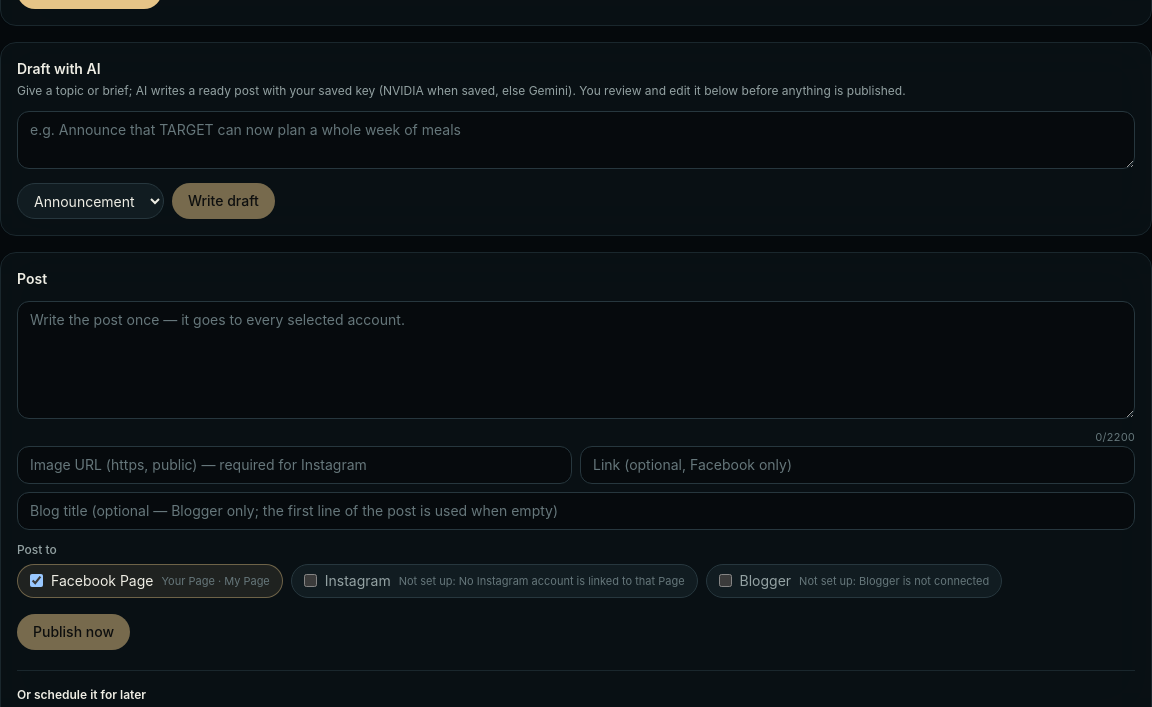
Test: user composer › publishing posts to /api/social/publish (never the admin routes) and shows the result
The width and height of the screenshot is (1152, 707).
(page scrolled)
Type "Hello from my Page" into the text box with test id "social-message" at {"x": 576, "y": 360}, box x1=17 y1=301 x2=1135 y2=419
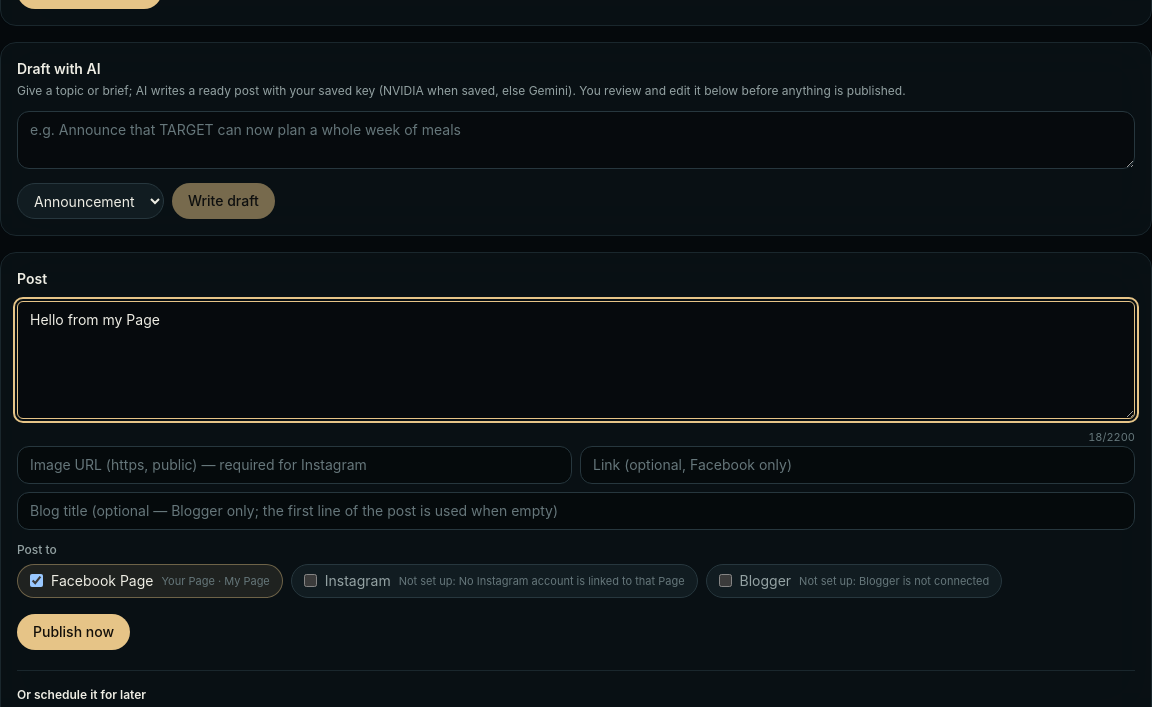
Click the button with test id "social-publish" at {"x": 74, "y": 632}, box x1=17 y1=614 x2=130 y2=650
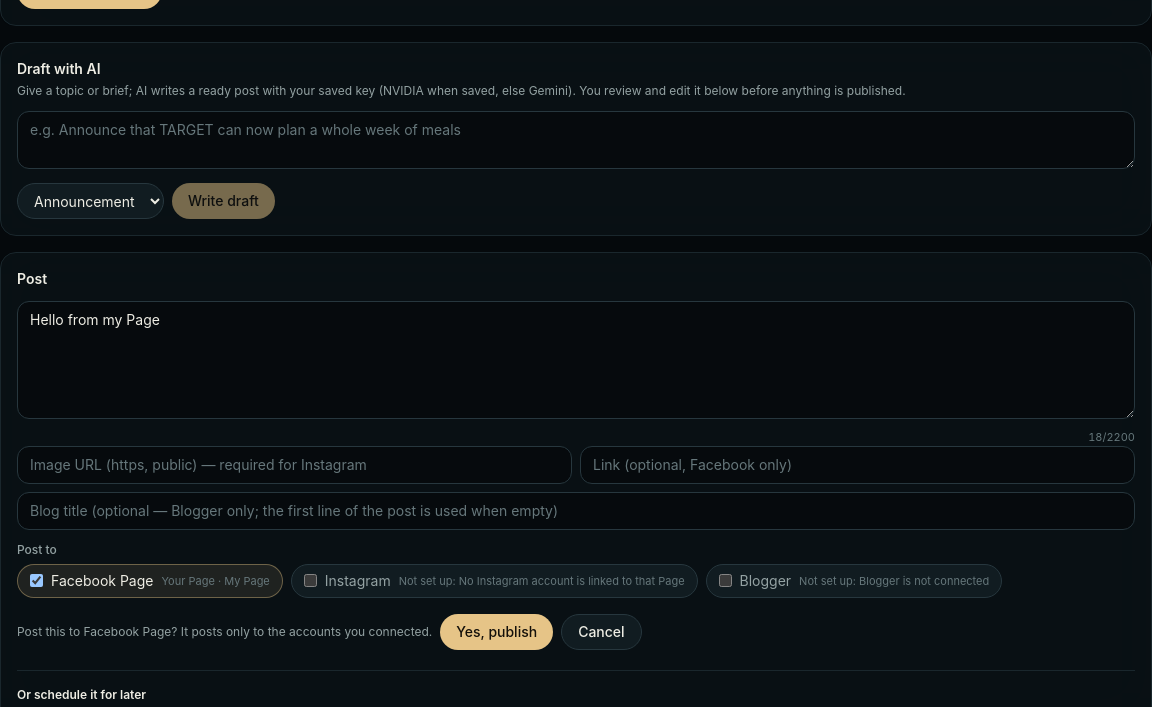
Expected: the text "It posts only to the accounts you connected." is shown, x1=181 y1=624 x2=432 y2=638
Click the button with test id "social-publish-confirm" at {"x": 497, "y": 632}, box x1=440 y1=614 x2=553 y2=650
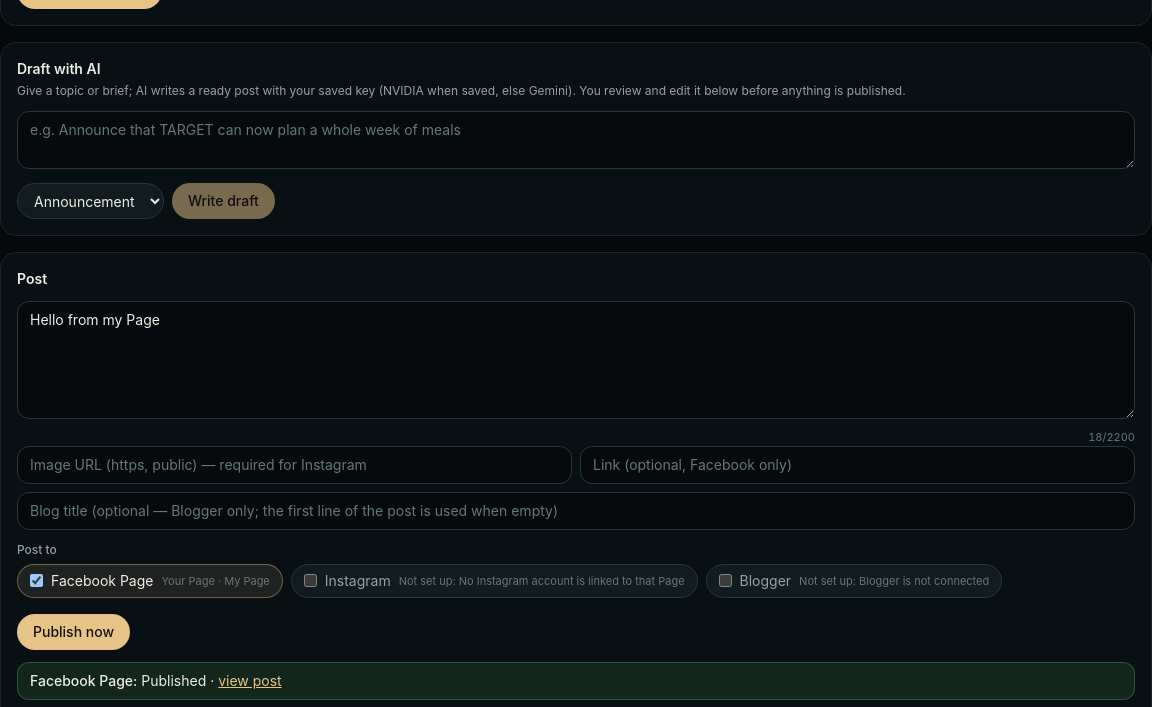
Expected: the list with test id "social-results" shows "Published", x1=141 y1=672 x2=206 y2=688
